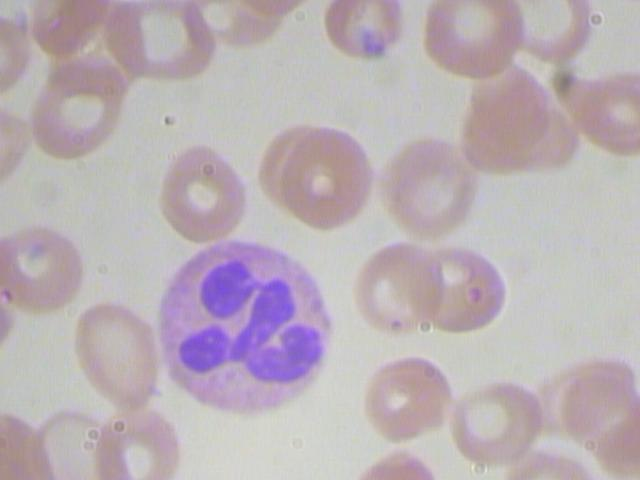RBC: (26, 58, 133, 166), (73, 299, 168, 415), (348, 229, 450, 337), (416, 234, 518, 342), (447, 365, 549, 473), (379, 133, 473, 247), (280, 122, 376, 229), (157, 140, 250, 245), (1, 209, 93, 314), (359, 352, 454, 448), (423, 1, 524, 81), (498, 1, 600, 66), (316, 1, 416, 64)
